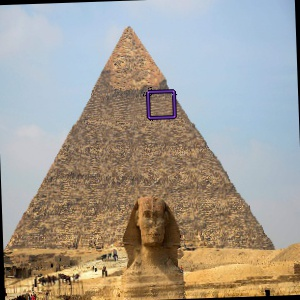square: (144, 88, 178, 121)
